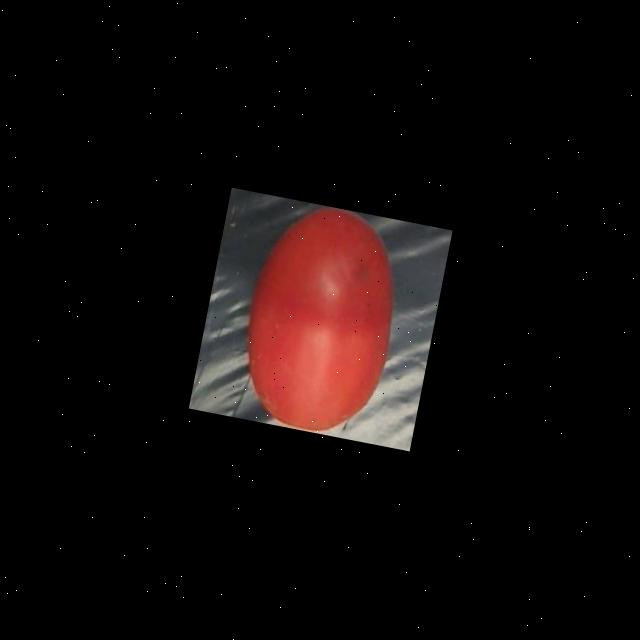tomato: (224, 197, 418, 446)
